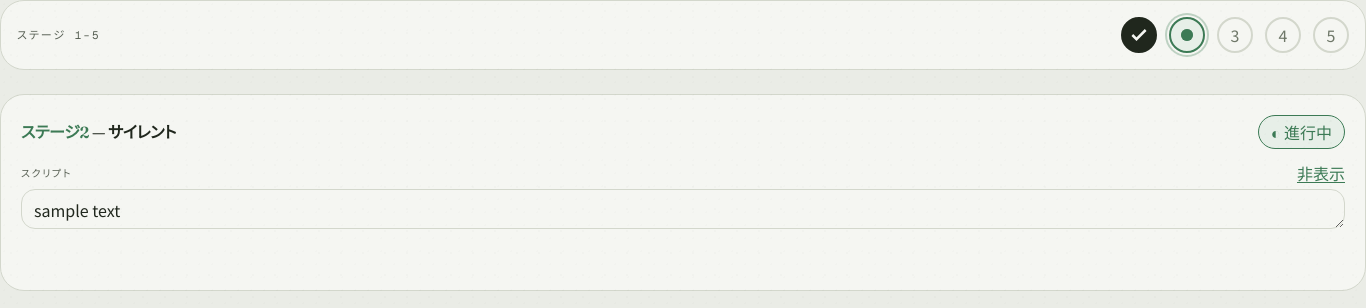
Test: SegmentStageWorkspace › switches the panel when a stage is selected
The image size is (1366, 308).
Expected: the heading "ステージ2 — サイレント" is shown, [21, 120, 176, 144]
Click the button titled "ステージ4 スクリプト付きシャドーイング". click: point(1283, 35)
box: [1265, 17, 1301, 53]
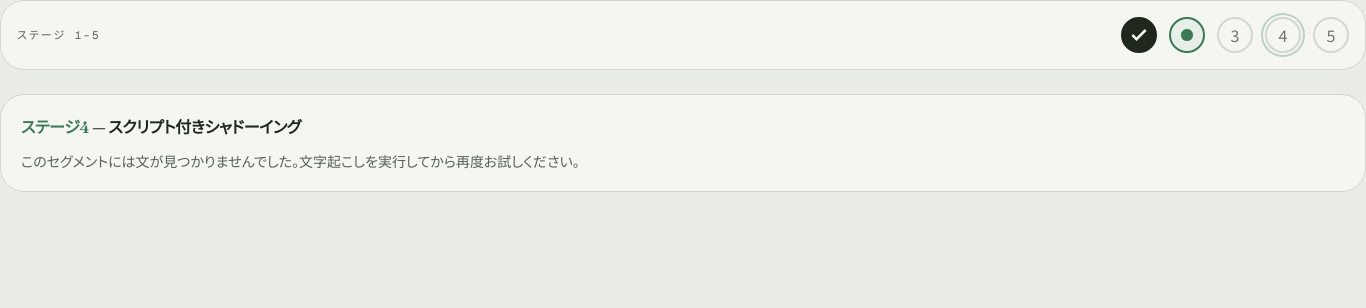
Now the heading "ステージ4 — スクリプト付きシャドーイング" is shown, box [21, 117, 301, 137]
